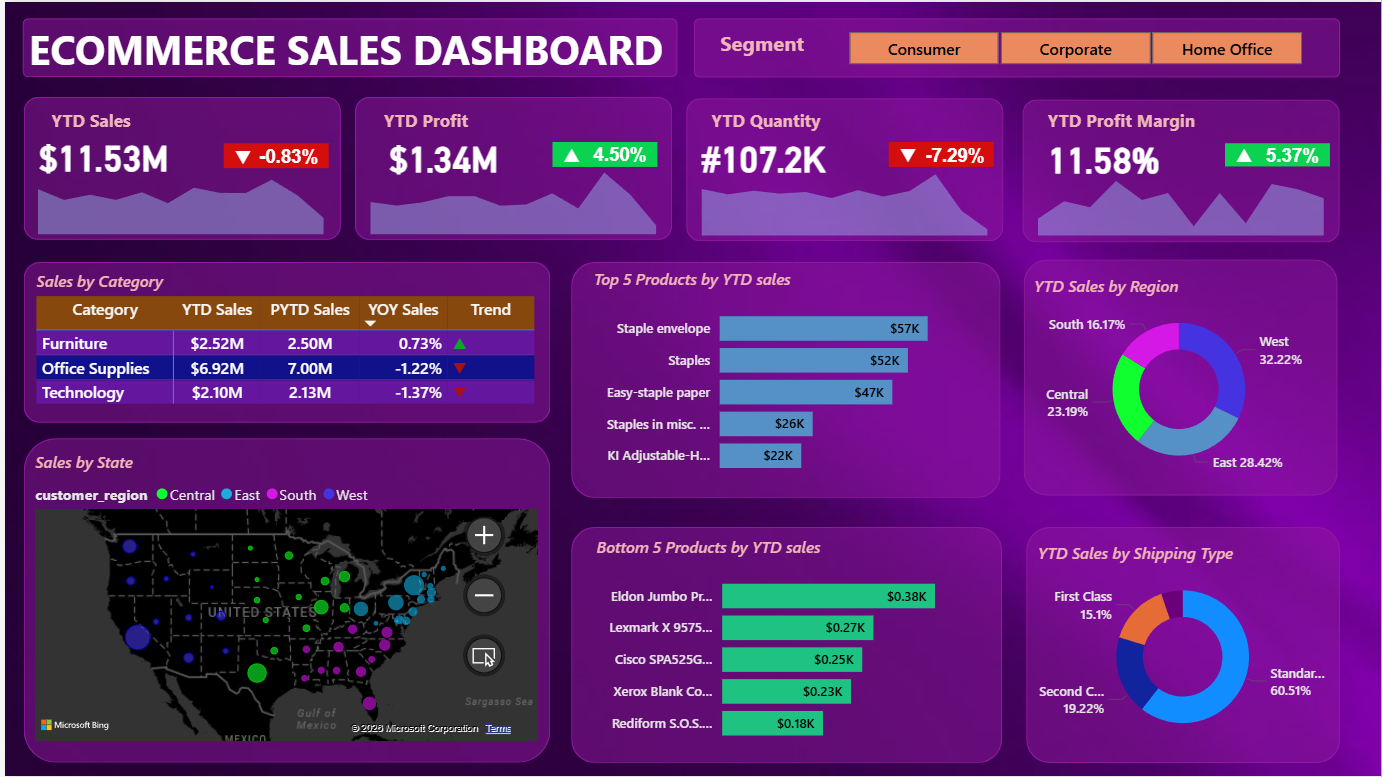

The dashboard page shown, as its layout file describes it:
{"tool":"powerbi","page":{"name":"Page 1","canvas":[1280,720],"ordinal":0},"visuals":[{"type":"shape","box":[17.8,87.8,295,133],"z":0},{"type":"shape","box":[203.1,131.7,97.4,23.3],"z":1000},{"type":"shape","box":[325.2,87.8,295,133.1],"z":2000},{"type":"shape","box":[16.5,15.1,609.3,54.9],"z":3000},{"type":"textbox","box":[17.8,13.7,607.9,60.4],"z":4000},{"type":"card","fields":{"Values":["ecommerce_data.YTD Sales"]},"box":[8.2,116.6,167.4,53.5],"z":5000},{"type":"areaChart","fields":{"Category":["Calender.Month"],"Y":["Sum(ecommerce_data.sales_per_order)"]},"box":[16.5,142.7,295,78.2],"z":6000},{"type":"card","fields":{"Values":["ecommerce_data.YOY Sales"]},"box":[222.3,131.7,83.7,27.4],"z":7000},{"type":"textbox","box":[38.4,94.7,86.4,37],"z":8000},{"type":"card","fields":{"Values":["ecommerce_data.YTD Profit"]},"box":[323.8,118,167.4,53.5],"z":9000},{"type":"areaChart","fields":{"Category":["Calender.Month"],"Y":["Sum(ecommerce_data.profit_per_order)"]},"box":[325.1,142.8,295,78.2],"z":10000},{"type":"shape","box":[509.1,130.4,97.4,23.3],"z":11000},{"type":"card","fields":{"Values":["ecommerce_data.YOY Profit"]},"box":[529.7,129,83.7,28.8],"z":12000},{"type":"card","fields":{"Values":["ecommerce_data.Profit Icon"]},"box":[509.1,130.4,35.7,27.4],"z":13000},{"type":"textbox","box":[347.2,94.7,101.5,37],"z":14000},{"type":"shape","box":[633.8,89,295,133.1],"z":15000},{"type":"areaChart","fields":{"Category":["Calender.Month"],"Y":["Sum(ecommerce_data.order_quantity)"]},"box":[633.7,144,295,78.2],"z":16000},{"type":"shape","box":[822,130.4,97.4,23.3],"z":17000},{"type":"card","fields":{"Values":["ecommerce_data.YOY Qty"]},"box":[842.4,130.2,83.7,28.8],"z":18000},{"type":"card","fields":{"Values":["ecommerce_data.Qty Icon"]},"box":[822,130.4,35.7,27.4],"z":19000},{"type":"textbox","box":[651.8,94.7,115.3,37],"z":20000},{"type":"card","fields":{"Values":["ecommerce_data.YTD Concated Qty"]},"box":[621.6,118,167.4,53.5],"z":21000},{"type":"shape","box":[946.8,90.6,295,133.1],"z":22000},{"type":"areaChart","fields":{"Category":["Calender.Month"],"Y":["ecommerce_data.Profit Margin"]},"box":[946.6,144.2,295,78.2],"z":23000},{"type":"shape","box":[1134.8,131.7,97.4,22],"z":24000},{"type":"card","fields":{"Values":["ecommerce_data.YOY PMG"]},"box":[1155.4,130.3,83.7,28.8],"z":25000},{"type":"card","fields":{"Values":["ecommerce_data.PMG Icon"]},"box":[1134.9,130.5,35.7,27.4],"z":26000},{"type":"textbox","box":[964.7,94.7,170.2,37],"z":27000},{"type":"card","fields":{"Values":["ecommerce_data.YTD PMG"]},"box":[938.7,118.1,167.4,53.5],"z":28000},{"type":"shape","box":[17.8,241.5,489.9,149.6],"z":29000},{"type":"pivotTable","title":"Sales by Category","fields":{"Rows":["ecommerce_data.category_name"],"Values":["ecommerce_data.YTD Sales","ecommerce_data.PYTD Sales","ecommerce_data.YOY Sales","ecommerce_data.Sales Icon"]},"box":[24.7,248.4,484.4,137.2],"z":30000},{"type":"shape","box":[17.8,406.2,489.9,301.9],"z":31000},{"type":"map","title":"Sales by State","fields":{"Y":["us_state_long_lat_codes.latitude"],"X":["us_state_long_lat_codes.longitude"],"Size":["ecommerce_data.YTD Sales"],"Series":["ecommerce_data.customer_region"]},"box":[23.3,417.2,477.5,274.4],"z":32000},{"type":"card","fields":{"Values":["ecommerce_data.Sales Icon"]},"box":[203.1,130.4,35.7,24.7],"z":33000},{"type":"shape","box":[526.9,241.5,399.3,219.6],"z":34000},{"type":"shape","box":[526.9,488.5,400.7,219.6],"z":35000},{"type":"barChart","title":"Top 5 Products by YTD sales","fields":{"Category":["ecommerce_data.product_name"],"Y":["ecommerce_data.YTD Sales"]},"box":[543.6,247.9,364.4,203.7],"z":36000},{"type":"barChart","title":"Bottom 5 Products by YTD sales","fields":{"Category":["ecommerce_data.product_name"],"Y":["ecommerce_data.YTD Sales"]},"box":[544.8,496.9,364.4,203.7],"z":37000},{"type":"shape","box":[947.2,239.3,292,219.6],"z":38000},{"type":"shape","box":[949.7,488.3,292,219.6],"z":39000},{"type":"donutChart","title":"YTD Sales by Region","fields":{"Category":["ecommerce_data.customer_region"],"Y":["ecommerce_data.YTD Sales"]},"box":[952.2,254,279.8,193.9],"z":40000},{"type":"donutChart","title":"YTD Sales by Shipping Type","fields":{"Category":["ecommerce_data.shipping_type"],"Y":["ecommerce_data.YTD Sales"]},"box":[955.8,501.8,279.8,193.9],"z":41000},{"type":"shape","box":[640.5,14.7,601.2,55.2],"z":42000},{"type":"slicer","fields":{"Values":["ecommerce_data.customer_segment"]},"box":[759.5,20.9,471.2,44.2],"z":43000},{"type":"textbox","box":[660.1,20.9,99.4,42.9],"z":44000}]}

Visuals, with their boxes in screenshot pixels (x1, y1, x2, y2), scaled from the page's 1280x720 canvas onto the 1383x777 screenshot:
shape: bbox=(19, 95, 338, 238)
shape: bbox=(219, 142, 325, 167)
shape: bbox=(351, 95, 670, 238)
shape: bbox=(18, 16, 676, 76)
textbox: bbox=(19, 15, 676, 80)
card - ecommerce_data.YTD Sales: bbox=(9, 126, 190, 184)
areaChart - Calender.Month x Sum(ecommerce_data.sales_per_order): bbox=(18, 154, 337, 238)
card - ecommerce_data.YOY Sales: bbox=(240, 142, 331, 172)
textbox: bbox=(41, 102, 135, 142)
card - ecommerce_data.YTD Profit: bbox=(350, 127, 531, 185)
areaChart - Calender.Month x Sum(ecommerce_data.profit_per_order): bbox=(351, 154, 670, 238)
shape: bbox=(550, 141, 655, 166)
card - ecommerce_data.YOY Profit: bbox=(572, 139, 663, 170)
card - ecommerce_data.Profit Icon: bbox=(550, 141, 589, 170)
textbox: bbox=(375, 102, 485, 142)
shape: bbox=(685, 96, 1004, 240)
areaChart - Calender.Month x Sum(ecommerce_data.order_quantity): bbox=(685, 155, 1003, 240)
shape: bbox=(888, 141, 993, 166)
card - ecommerce_data.YOY Qty: bbox=(910, 141, 1001, 172)
card - ecommerce_data.Qty Icon: bbox=(888, 141, 927, 170)
textbox: bbox=(704, 102, 829, 142)
card - ecommerce_data.YTD Concated Qty: bbox=(672, 127, 852, 185)
shape: bbox=(1023, 98, 1342, 241)
areaChart - Calender.Month x ecommerce_data.Profit Margin: bbox=(1023, 156, 1342, 240)
shape: bbox=(1226, 142, 1331, 166)
card - ecommerce_data.YOY PMG: bbox=(1248, 141, 1339, 172)
card - ecommerce_data.PMG Icon: bbox=(1226, 141, 1265, 170)
textbox: bbox=(1042, 102, 1226, 142)
card - ecommerce_data.YTD PMG: bbox=(1014, 127, 1195, 185)
shape: bbox=(19, 261, 549, 422)
"Sales by Category" pivotTable: bbox=(27, 268, 550, 416)
shape: bbox=(19, 438, 549, 764)
"Sales by State" map: bbox=(25, 450, 541, 746)
card - ecommerce_data.Sales Icon: bbox=(219, 141, 258, 167)
shape: bbox=(569, 261, 1001, 498)
shape: bbox=(569, 527, 1002, 764)
"Top 5 Products by YTD sales" barChart: bbox=(587, 268, 981, 487)
"Bottom 5 Products by YTD sales" barChart: bbox=(589, 536, 982, 756)
shape: bbox=(1023, 258, 1339, 495)
shape: bbox=(1026, 527, 1342, 764)
"YTD Sales by Region" donutChart: bbox=(1029, 274, 1331, 483)
"YTD Sales by Shipping Type" donutChart: bbox=(1033, 542, 1335, 751)
shape: bbox=(692, 16, 1342, 75)
slicer - ecommerce_data.customer_segment: bbox=(821, 23, 1330, 70)
textbox: bbox=(713, 23, 821, 69)
